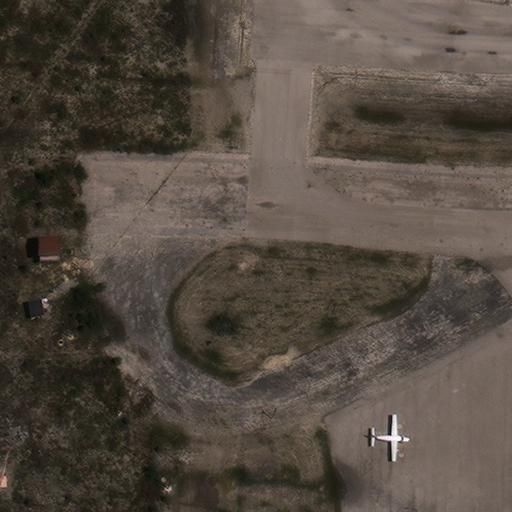Medium Civil Transport: (366, 413, 411, 460)
